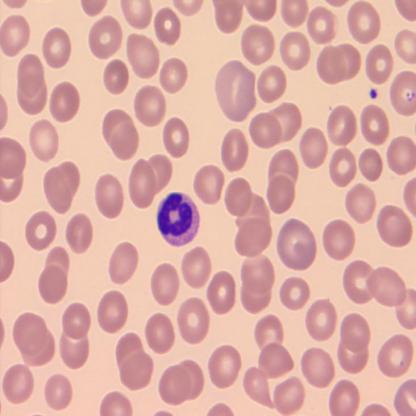Segmented neutrophil: (155, 189, 202, 248)
